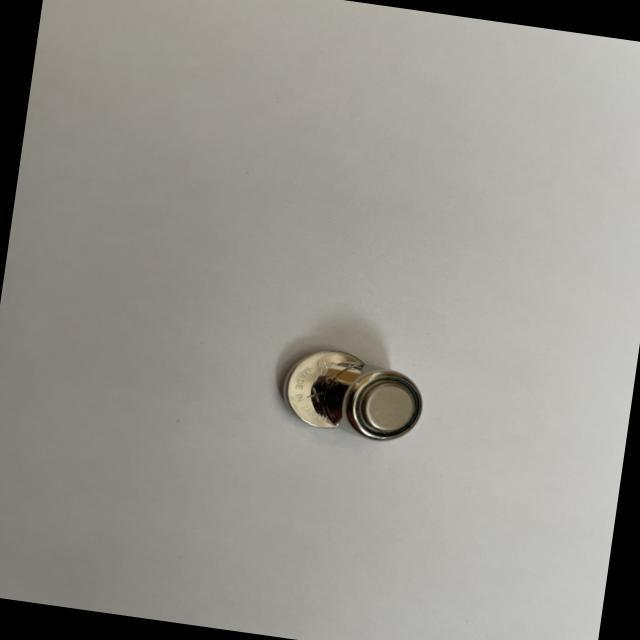COIN: (323, 362, 428, 446), (272, 343, 364, 432)
